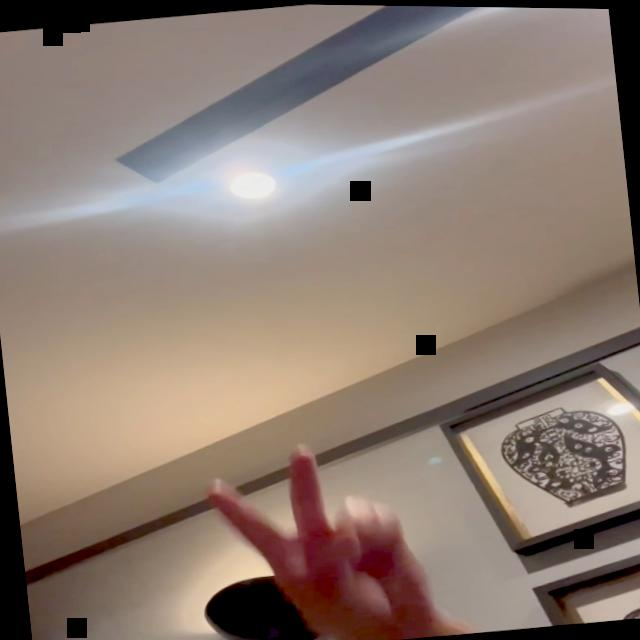Scissors: (199, 428, 440, 640)
